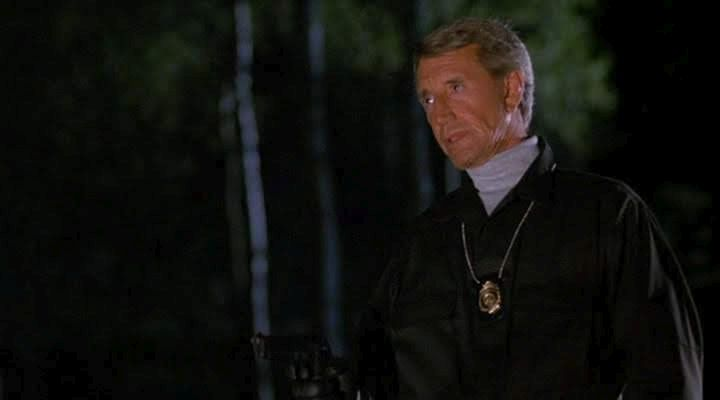gun: (238, 328, 346, 398)
